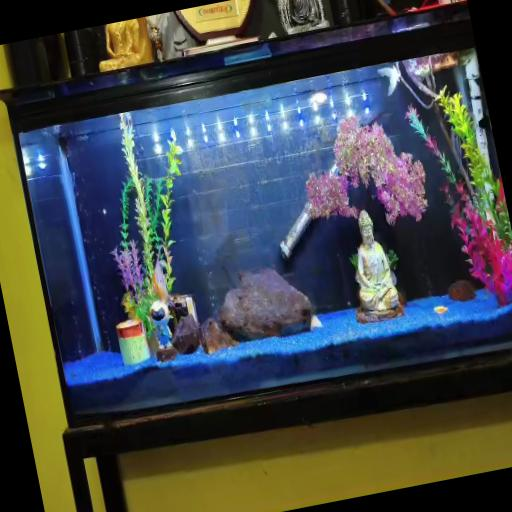Fish: (153, 258, 170, 305), (378, 65, 401, 96), (311, 315, 322, 329), (434, 306, 448, 315)
